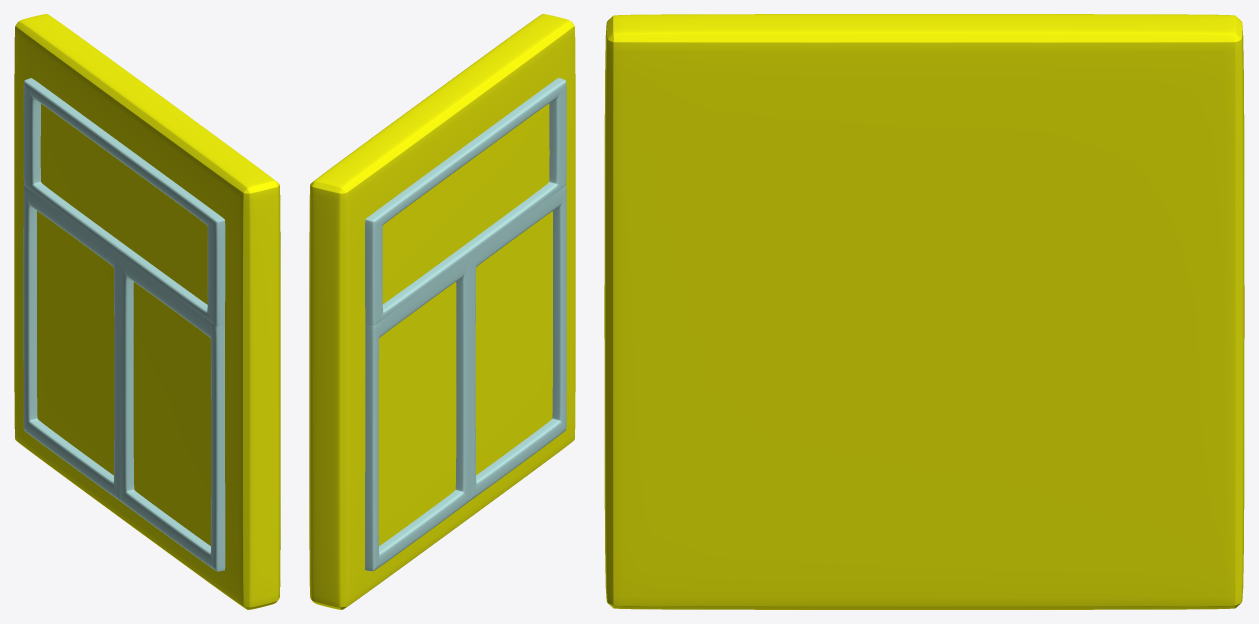
The picture shows the model from 3 angles, left to right: view 1: azimuth 30°, elevation 25°; view 2: azimuth 150°, elevation 25°; view 3: azimuth 270°, elevation 25°; orthographic projection. The views are drawn at different scales.
Visible parts, largest first — view 1: polySurface1415; view 2: polySurface1415; view 3: polySurface1415.
Boxes of the visible parts, left/top/right/bottom form: polySurface1415: left=14, top=14, right=280, bottom=609; polySurface1415: left=309, top=14, right=575, bottom=609; polySurface1415: left=604, top=14, right=1244, bottom=609.
Size of the model in its own units: 0.1192 by 0.9995 by 0.9995.
